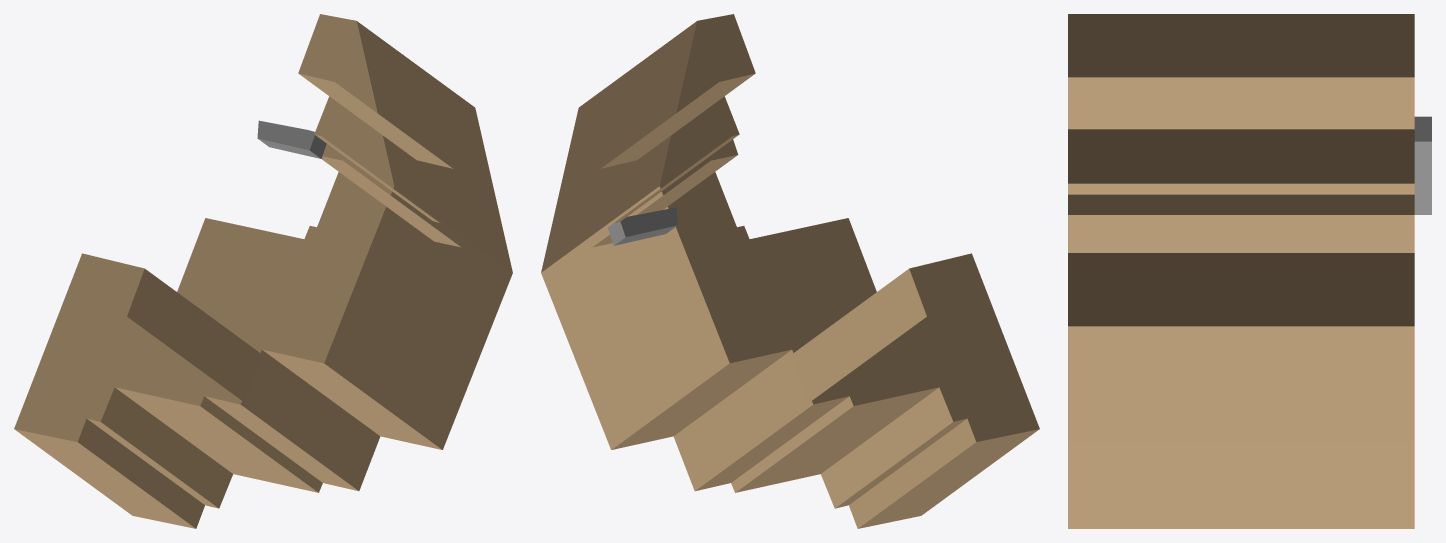
3 views of the same model, side by side, from view 1: azimuth 30°, elevation 25°; view 2: azimuth 150°, elevation 25°; view 3: azimuth 270°, elevation 25° (orthographic). The views are drawn at different scales.
Visible parts, largest first — view 1: 0_0_3_1_3_2_0_2; view 2: 0_0_3_1_3_2_0_2; view 3: 0_0_3_1_3_2_0_2.
Boxes of the visible parts, x1,y1,x2,y2 form: 0_0_3_1_3_2_0_2: (14,14,512,528); 0_0_3_1_3_2_0_2: (541,14,1039,528); 0_0_3_1_3_2_0_2: (1068,14,1431,528).
Bounding box in the file's own units: 55.55 × 51.8 × 31.5.
